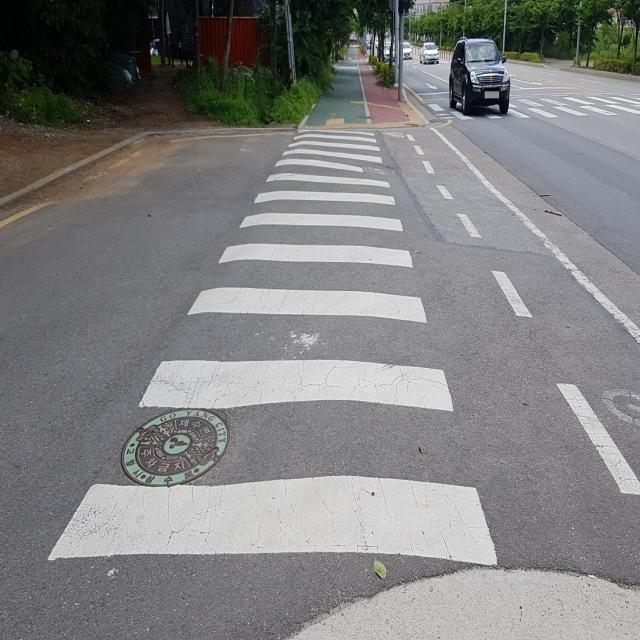횡단보도: (44, 124, 501, 570), (514, 97, 640, 117)
